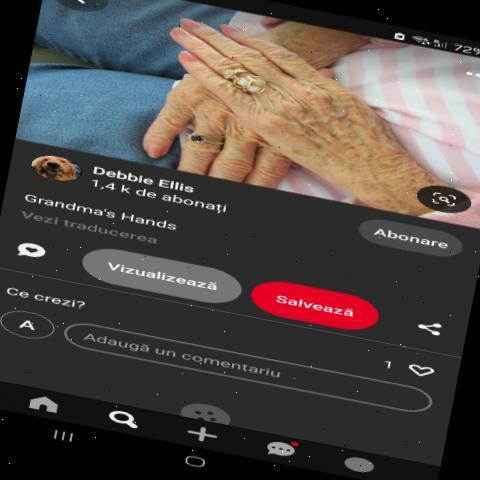Hands: (150, 10, 434, 199), (150, 59, 308, 192)
